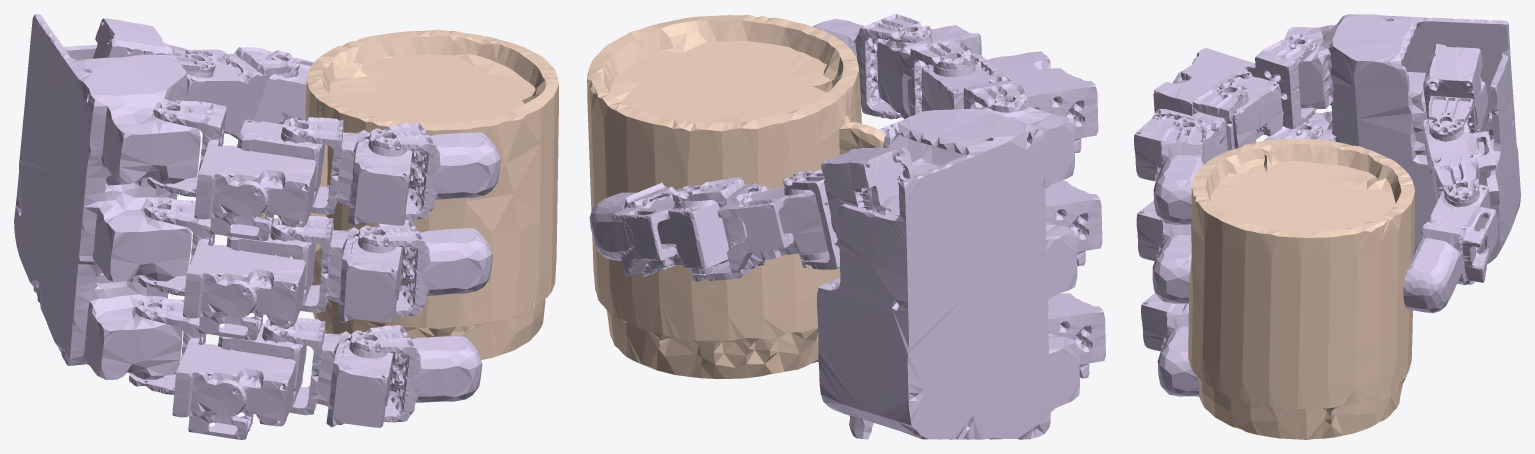
3 views of the same model, side by side, from view 1: azimuth 30°, elevation 25°; view 2: azimuth 150°, elevation 25°; view 3: azimuth 270°, elevation 25° (orthographic). The views are drawn at different scales.
Parts seen in each view (by area): view 1: LEAP_hand, world; view 2: LEAP_hand, world; view 3: LEAP_hand, world.
Part boxes in pixels (<box>): LEAP_hand: <box>14,14,500,439</box>; world: <box>258,29,558,359</box>; LEAP_hand: <box>589,14,1105,439</box>; world: <box>587,15,885,378</box>; LEAP_hand: <box>1134,14,1520,396</box>; world: <box>1188,138,1414,439</box>.
Bounding box in the file's own units: 0.2092 × 0.1417 × 0.1792.
